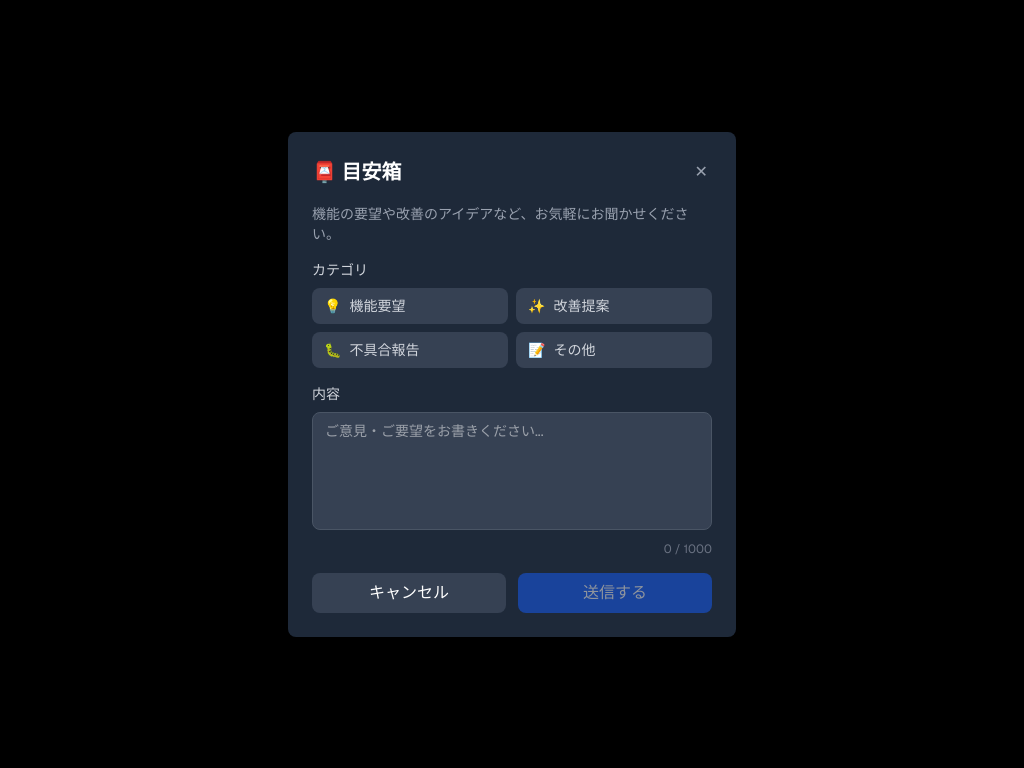
Test: FeedbackModal › テキストを入力できる
In the text box with placeholder "ご意見・ご要望をお書きください...": {"x": 512, "y": 470} [312,412,712,530], type "テスト入力"
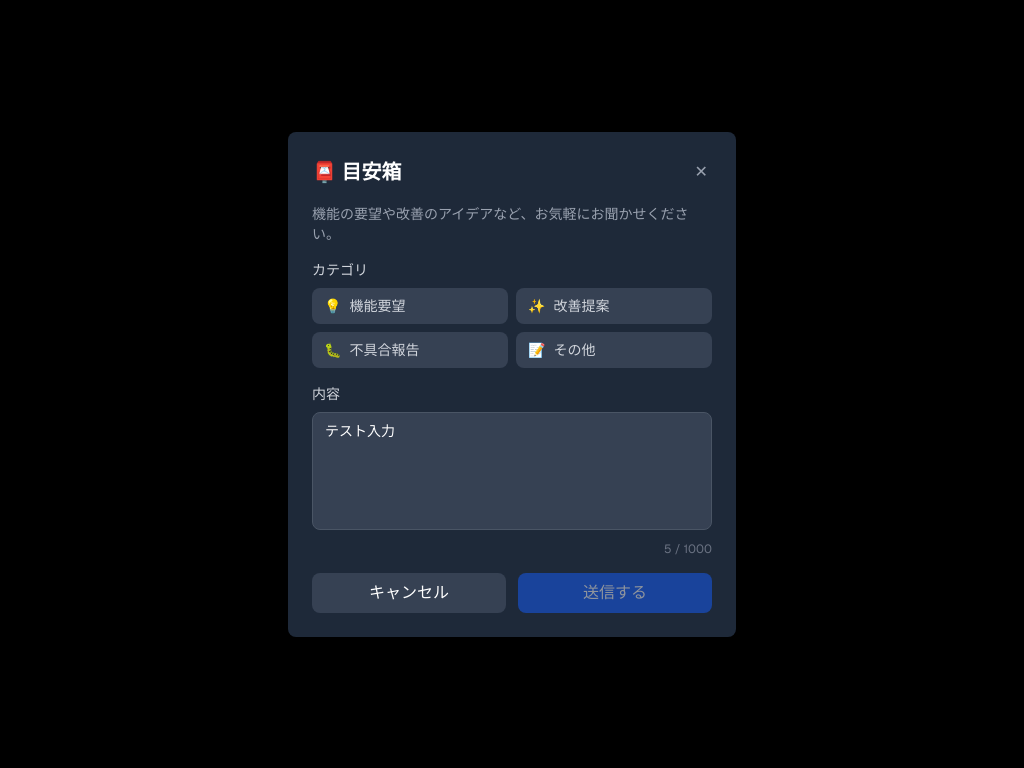
Result: the text "5 / 1000" is shown at [664,540,712,556]
